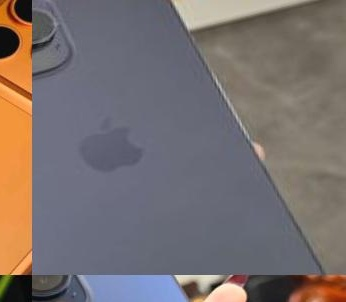scratch: (206, 50, 263, 152)
